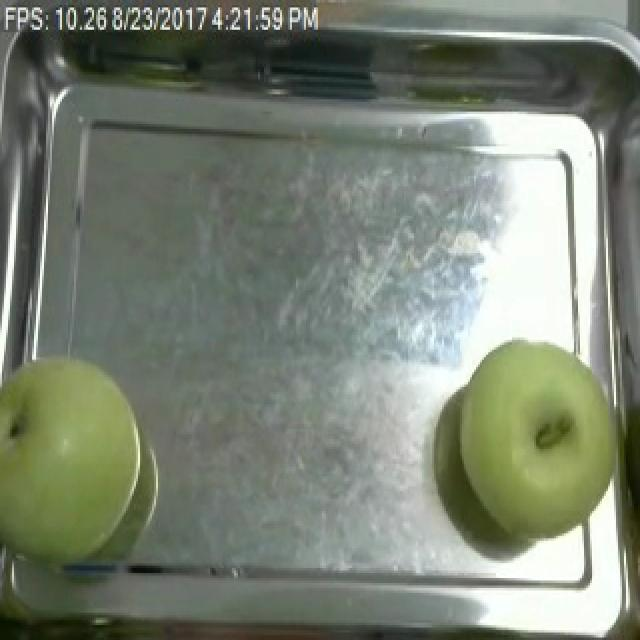50-_ripeness: (450, 328, 623, 549), (0, 348, 157, 566)
